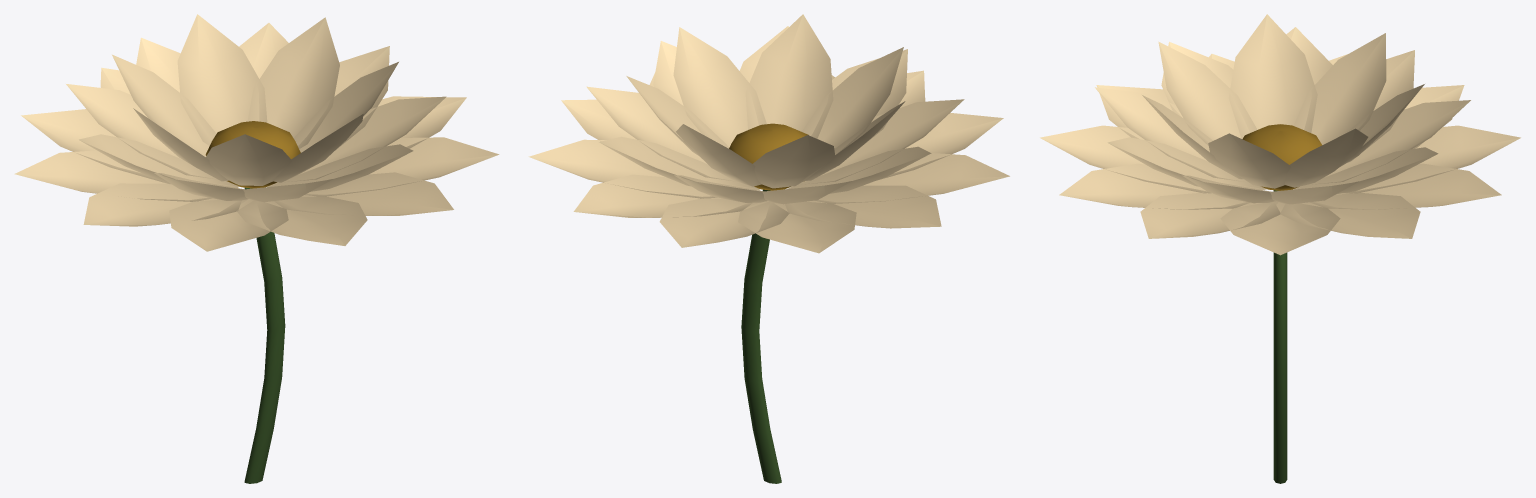
File: CP03-B02-ivory-bloom.glb
3 views of the same model, side by side, from view 1: azimuth 30°, elevation 25°; view 2: azimuth 150°, elevation 25°; view 3: azimuth 270°, elevation 25° (orthographic).
Parts seen in each view (by area): view 1: CP03-B02-ivory-bloom; view 2: CP03-B02-ivory-bloom; view 3: CP03-B02-ivory-bloom.
Boxes of the visible parts, <box> form: CP03-B02-ivory-bloom: <box>14,14,499,483</box>; CP03-B02-ivory-bloom: <box>528,14,1009,483</box>; CP03-B02-ivory-bloom: <box>1040,14,1520,483</box>.
Bounding box in the file's own units: 0.8328 × 0.778 × 0.8413.
Materials: 1 (1 with a texture image).
